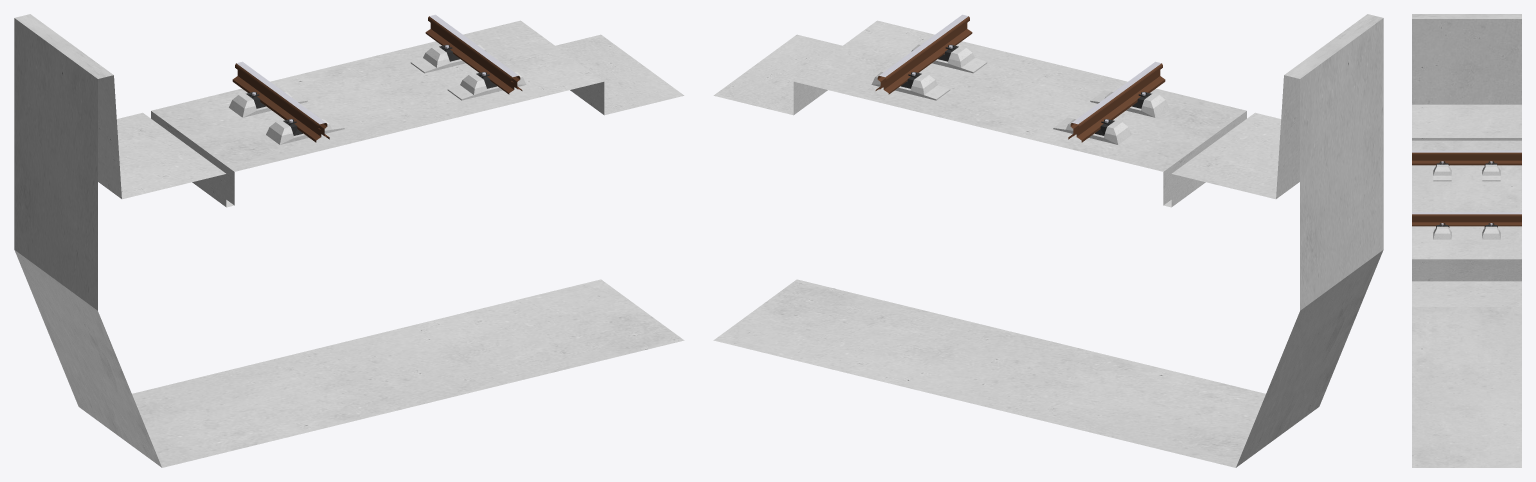
File: msd_rail_viaduct_side.obj
The picture shows the model from 3 angles, left to right: view 1: azimuth 30°, elevation 25°; view 2: azimuth 150°, elevation 25°; view 3: azimuth 270°, elevation 25°; orthographic projection. The views are drawn at different scales.
Visible parts, largest first — view 1: cuboid; view 2: cuboid; view 3: cuboid.
Part boxes in pixels (x1,y1,x2,y2): cuboid: (14,14,684,467); cuboid: (713,14,1383,467); cuboid: (1412,14,1521,467).
Bounding box in the file's own units: 4.56 × 3.01 × 1.12.
Materials: 5 (4 with a texture image).
